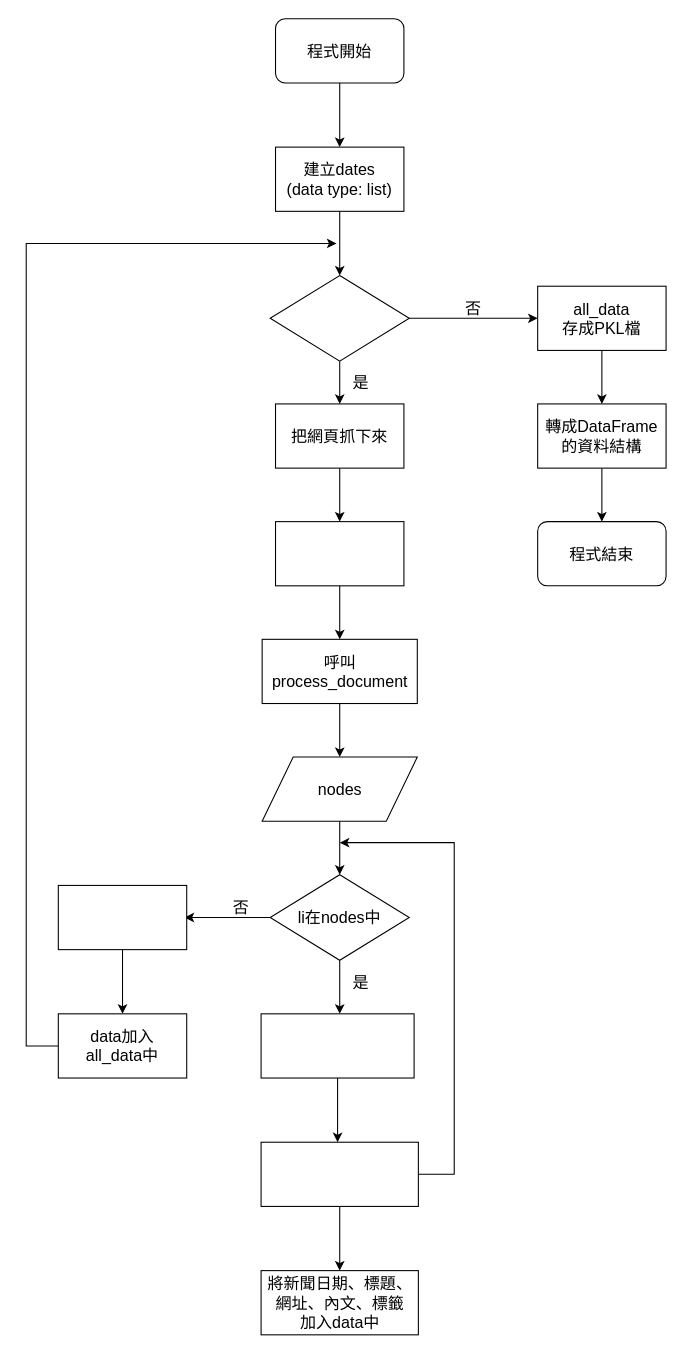
Image size: 685x1354. Some labels were removed from this diagram. Each missing label, with the centre of its shape:
"date在dates中" belongs at point (339, 317).
"以'lxml'為解析器進行解析" belongs at point (339, 553).
"取得新聞日期、 標題、內文" belongs at point (339, 1173).
"得到data (data type: list)" belongs at point (122, 917).
"把網頁抓下來 並 以'lxml'為解析器進行解析" belongs at point (337, 1045).
